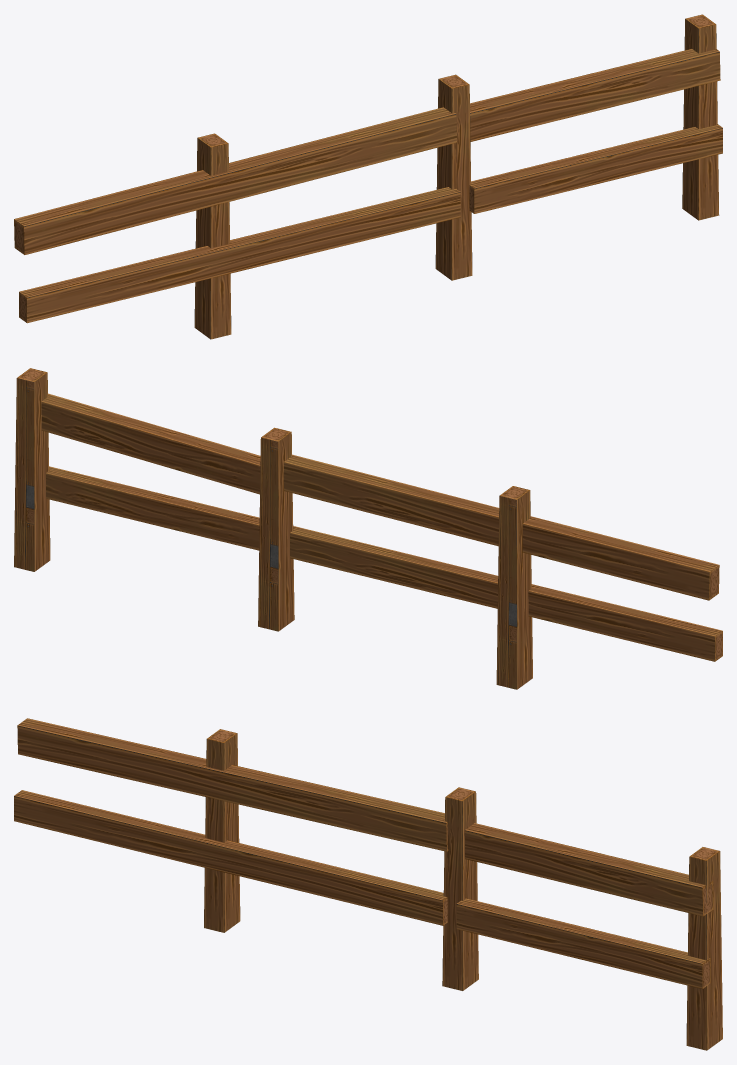
3 renders of one model, top to bottom at view 1: azimuth 30°, elevation 25°; view 2: azimuth 150°, elevation 25°; view 3: azimuth 330°, elevation 25°, orthographic.
Parts seen in each view (by area): view 1: Cube.1873; view 2: Cube.1873; view 3: Cube.1873.
Boxes of the visible parts, x1,y1,x2,y2 form: Cube.1873: [14, 14, 722, 339]; Cube.1873: [14, 368, 722, 689]; Cube.1873: [14, 718, 722, 1050].
Bounding box in the file's own units: 504 × 132 × 25.43.
1 material, 1 textured.
